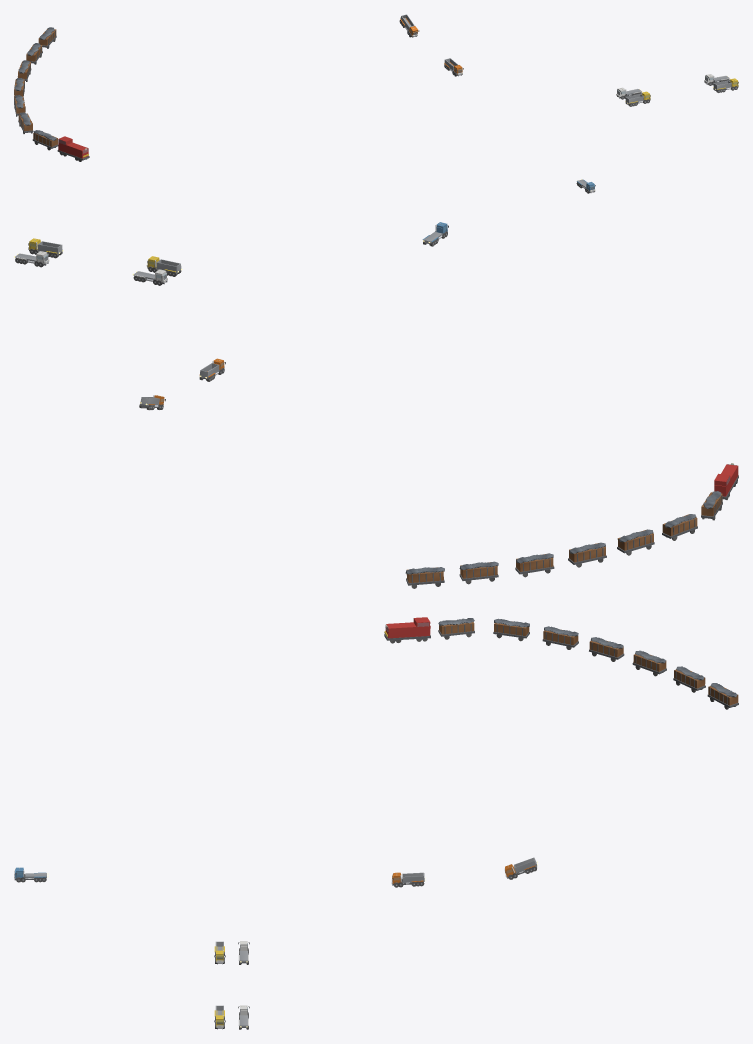
File: Vehicles_P3.fbx
3 renders of one model, top to bottom at view 1: azimuth 30°, elevation 25°; view 2: azimuth 150°, elevation 25°; view 3: azimuth 270°, elevation 25°, orthographic. The views are drawn at different scales.
Parts seen in each view (by area): view 1: train, wagon; view 2: wagon.005, wagon.004, wagon.006, wagon.003, wagon.002, wagon.001, train; view 3: train.
Part boxes in pixels (<box>): train: <box>57,136,89,161</box>; wagon: <box>32,130,58,150</box>; wagon.005: <box>459,561,498,584</box>; wagon.004: <box>515,553,554,577</box>; wagon.006: <box>405,567,444,588</box>; wagon.003: <box>568,542,606,567</box>; wagon.002: <box>617,529,654,555</box>; wagon.001: <box>662,514,697,540</box>; train: <box>714,463,738,499</box>; train: <box>384,617,430,643</box>.
Size of the model in its own units: 26615 by 1486 by 21745.
